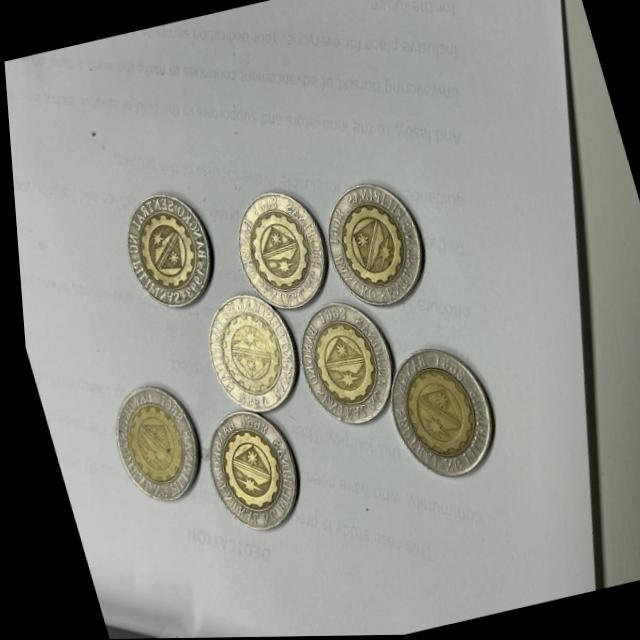10_Old_Back: (374, 342, 490, 487), (315, 180, 425, 307), (187, 410, 296, 538), (280, 296, 389, 421), (96, 387, 202, 510), (116, 187, 217, 305), (196, 295, 294, 414), (230, 195, 328, 311)
